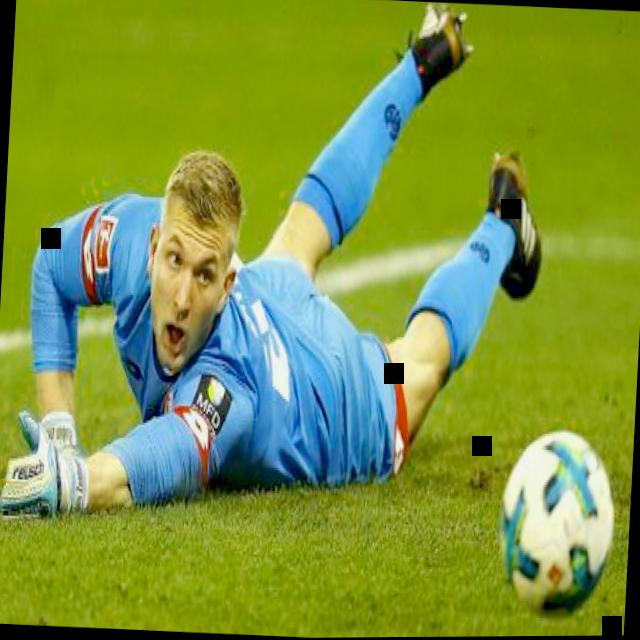Fall-Detected: (3, 0, 562, 554)
